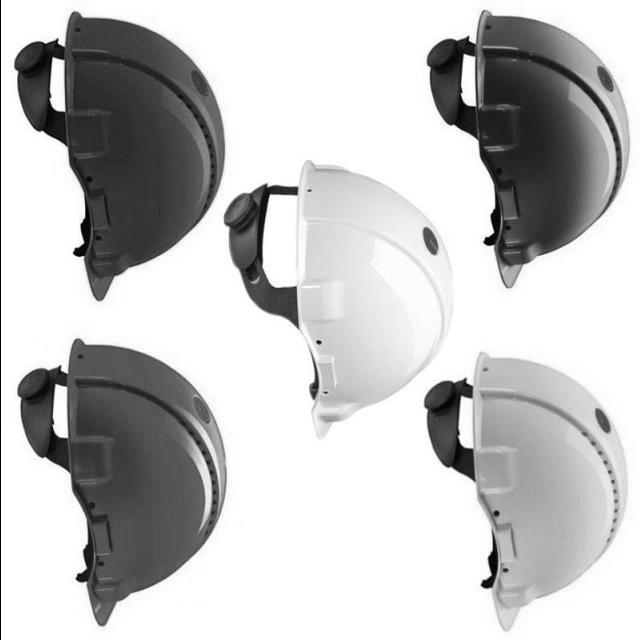construction helmet: (222, 160, 452, 440), (11, 10, 224, 303), (14, 337, 225, 627), (422, 350, 630, 633), (426, 10, 630, 288)
